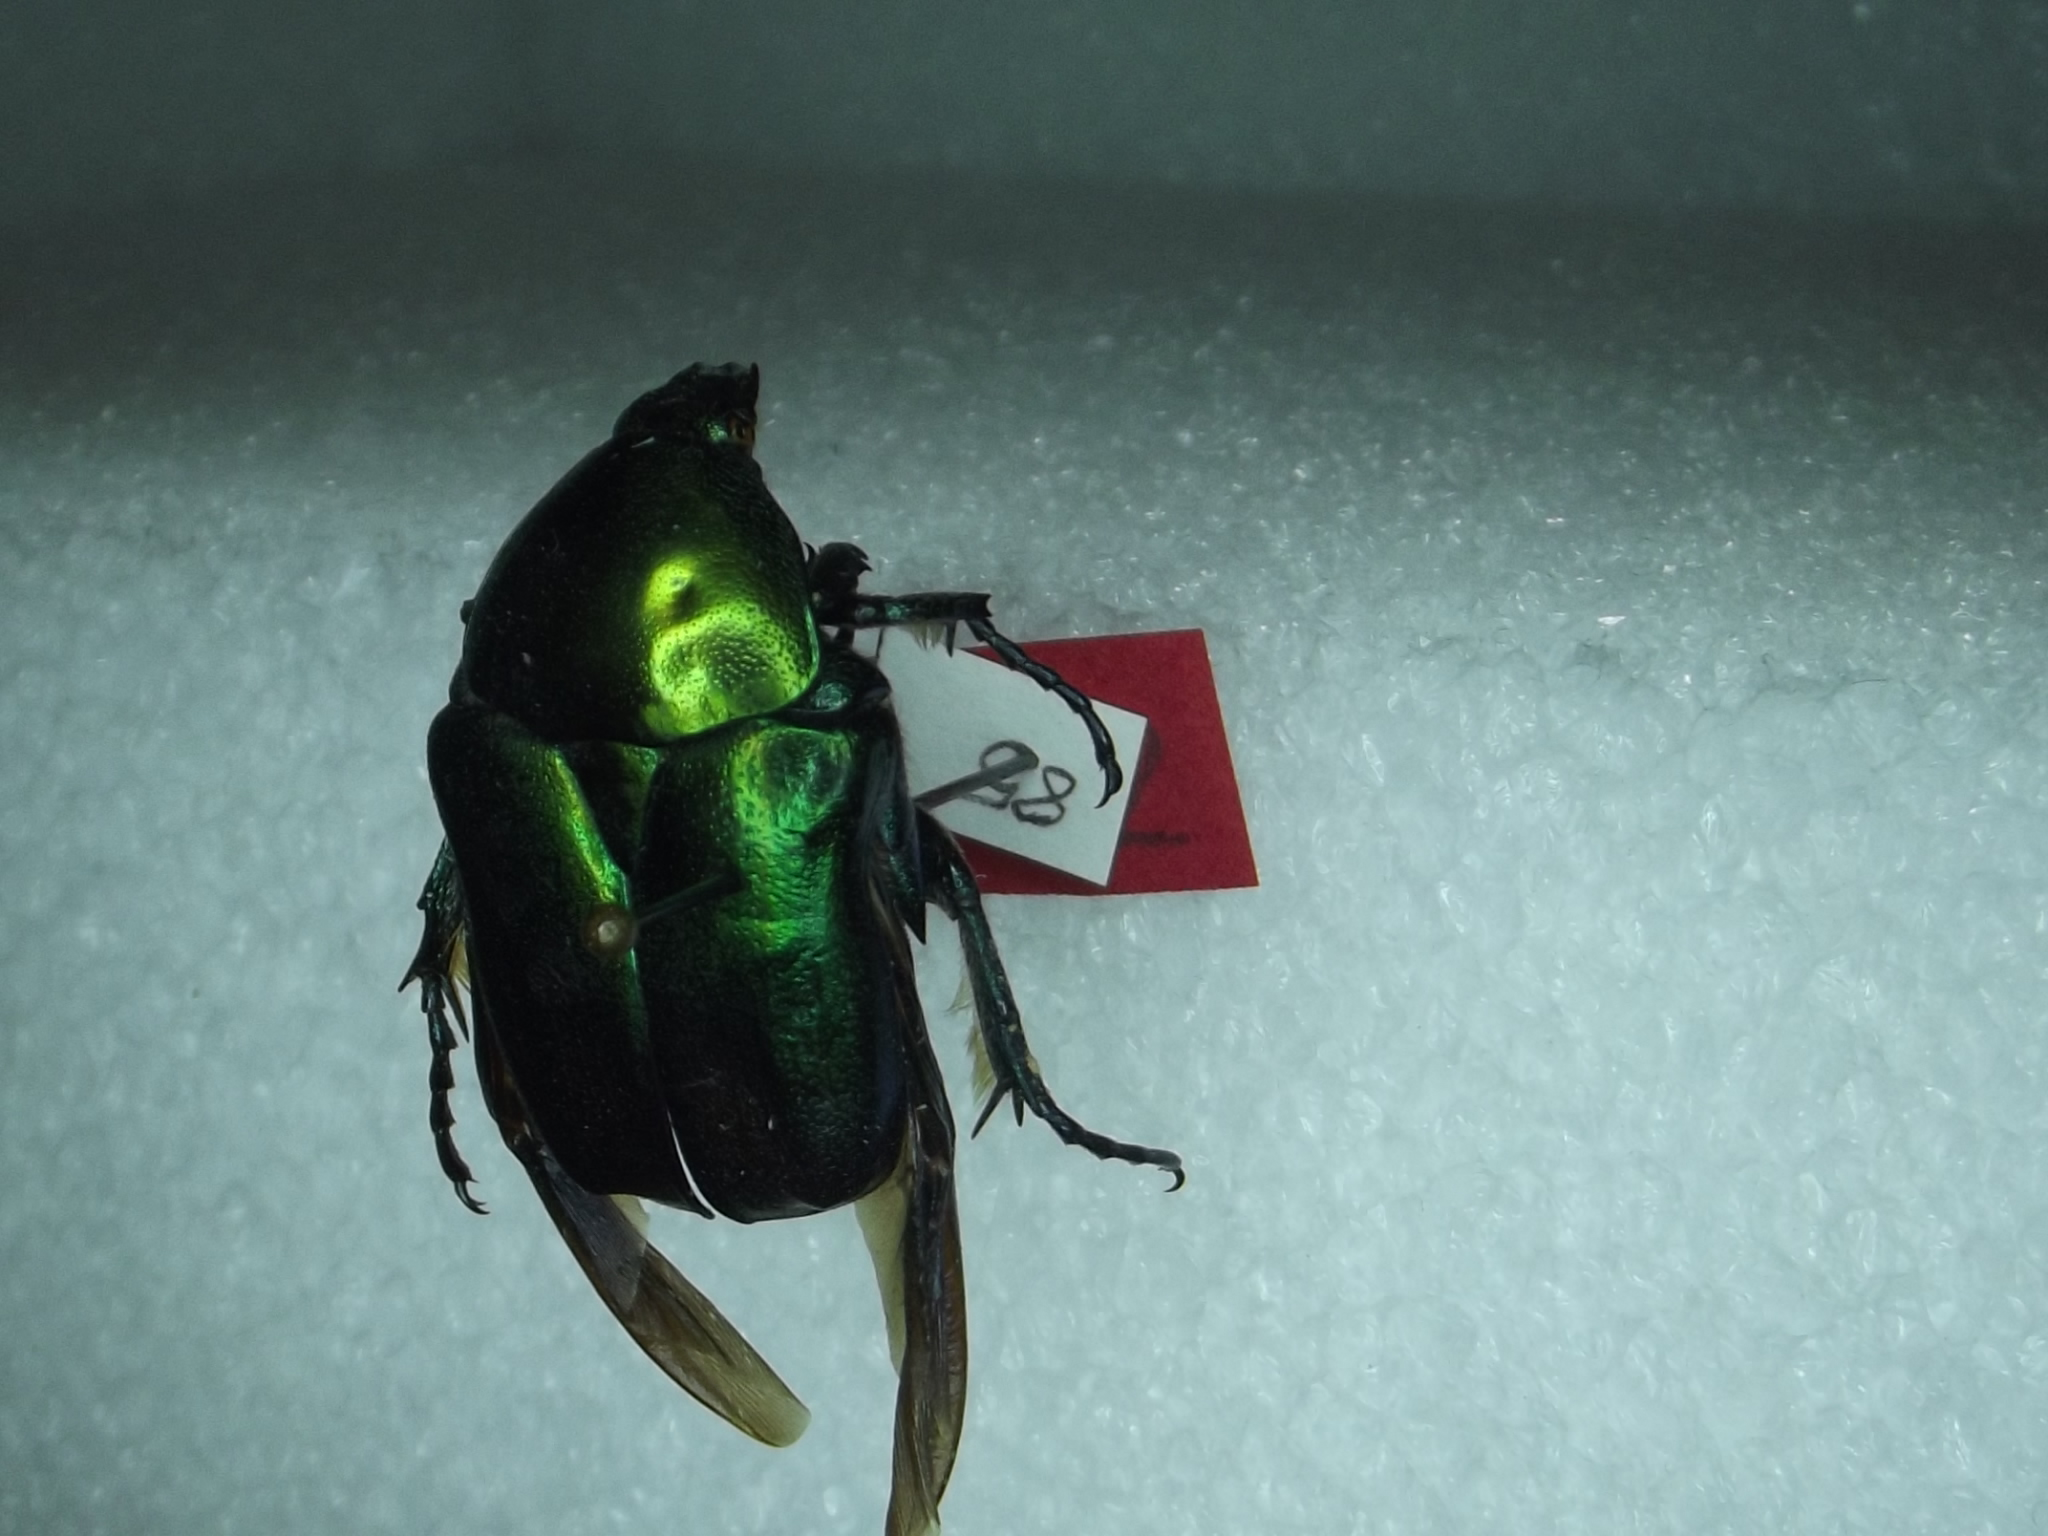Protaetia_besucheti: (318, 340, 1209, 1536)
